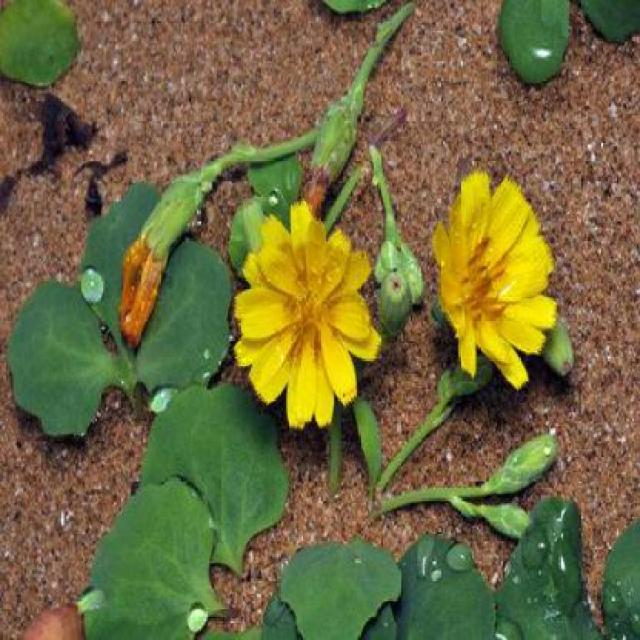flower: (230, 184, 382, 424), (432, 170, 562, 410)
